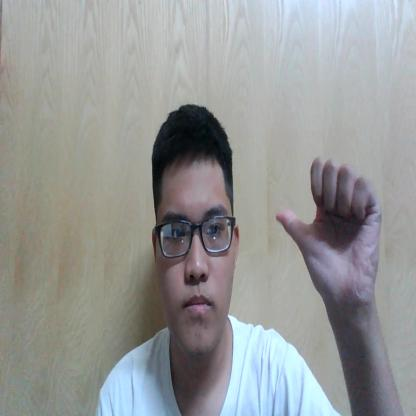right: (277, 157, 383, 300)
